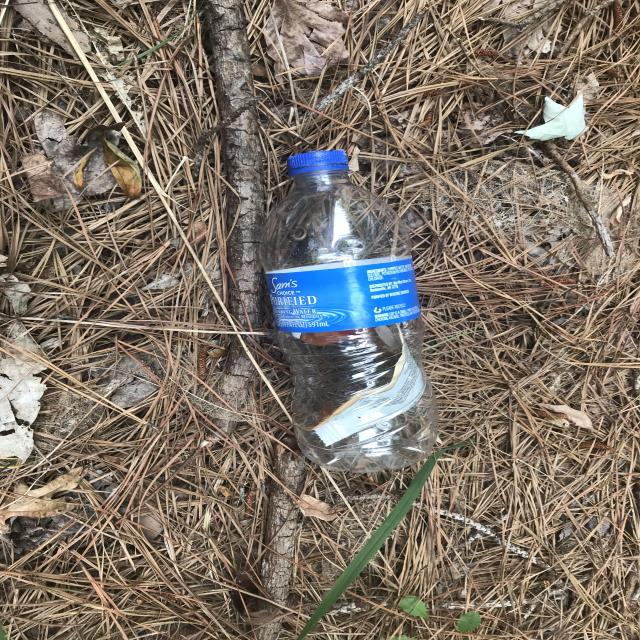litter: (259, 151, 437, 474)
